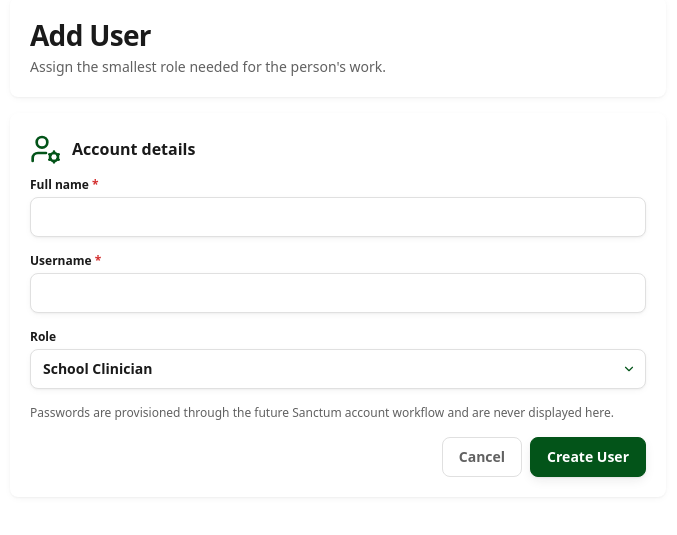
it: UI/UX review follow-up fixes › rejects a username another account already uses, case-insensitively
expect the heading "Add User" is shown: met, box [30,16,151,54]
Step 1. Type "Test Person" into the field labelled "Full name *" → [338, 217], box [30,197,646,237]
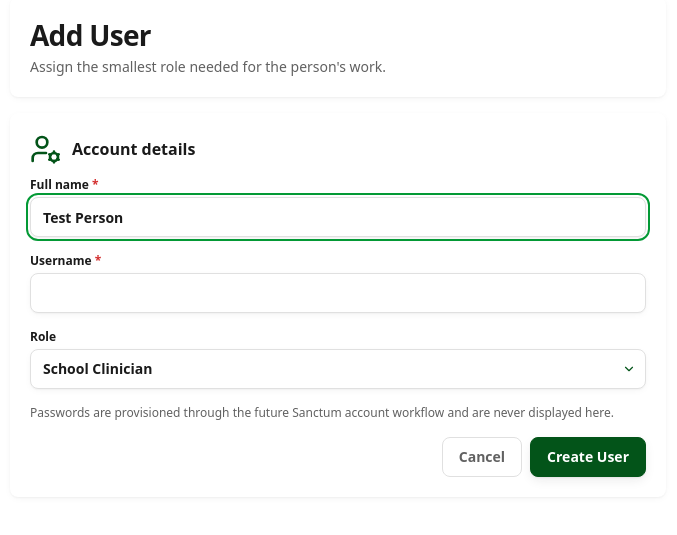
Step 2. Type "Demo.Nurse" into the field labelled "Username *" → [338, 293], box [30,273,646,313]
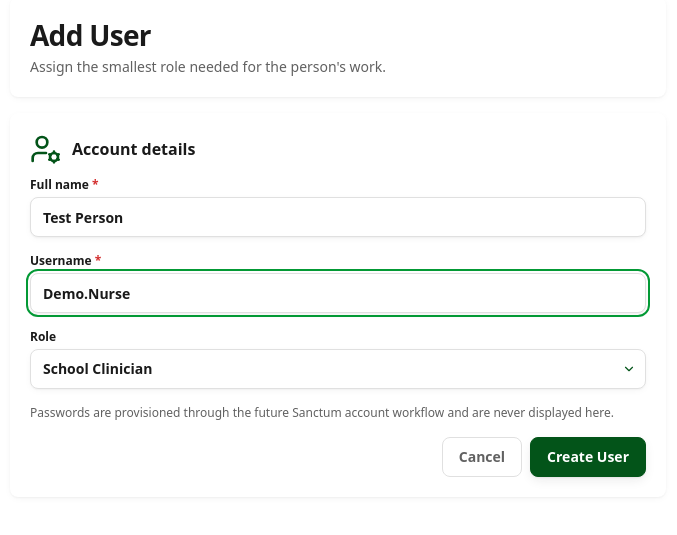
Step 3. Click the button "Create User" → [588, 457], box [530,437,646,477]
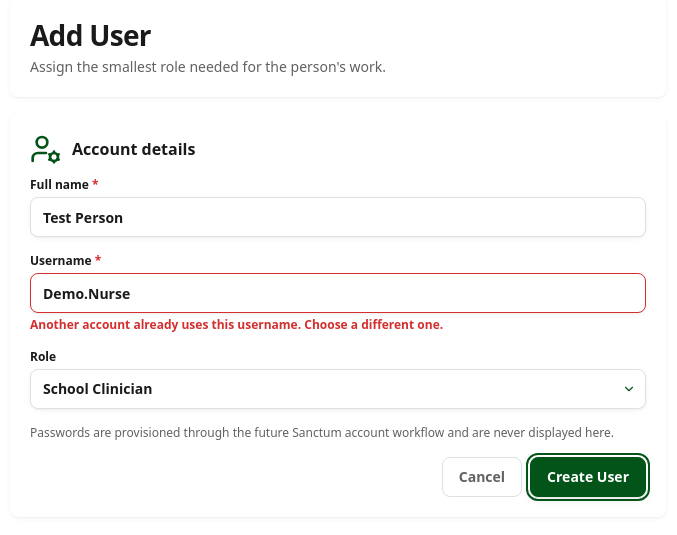
expect the text "Another account already uses this username. Choose a different one." is shown: met, box [30,316,443,333]
